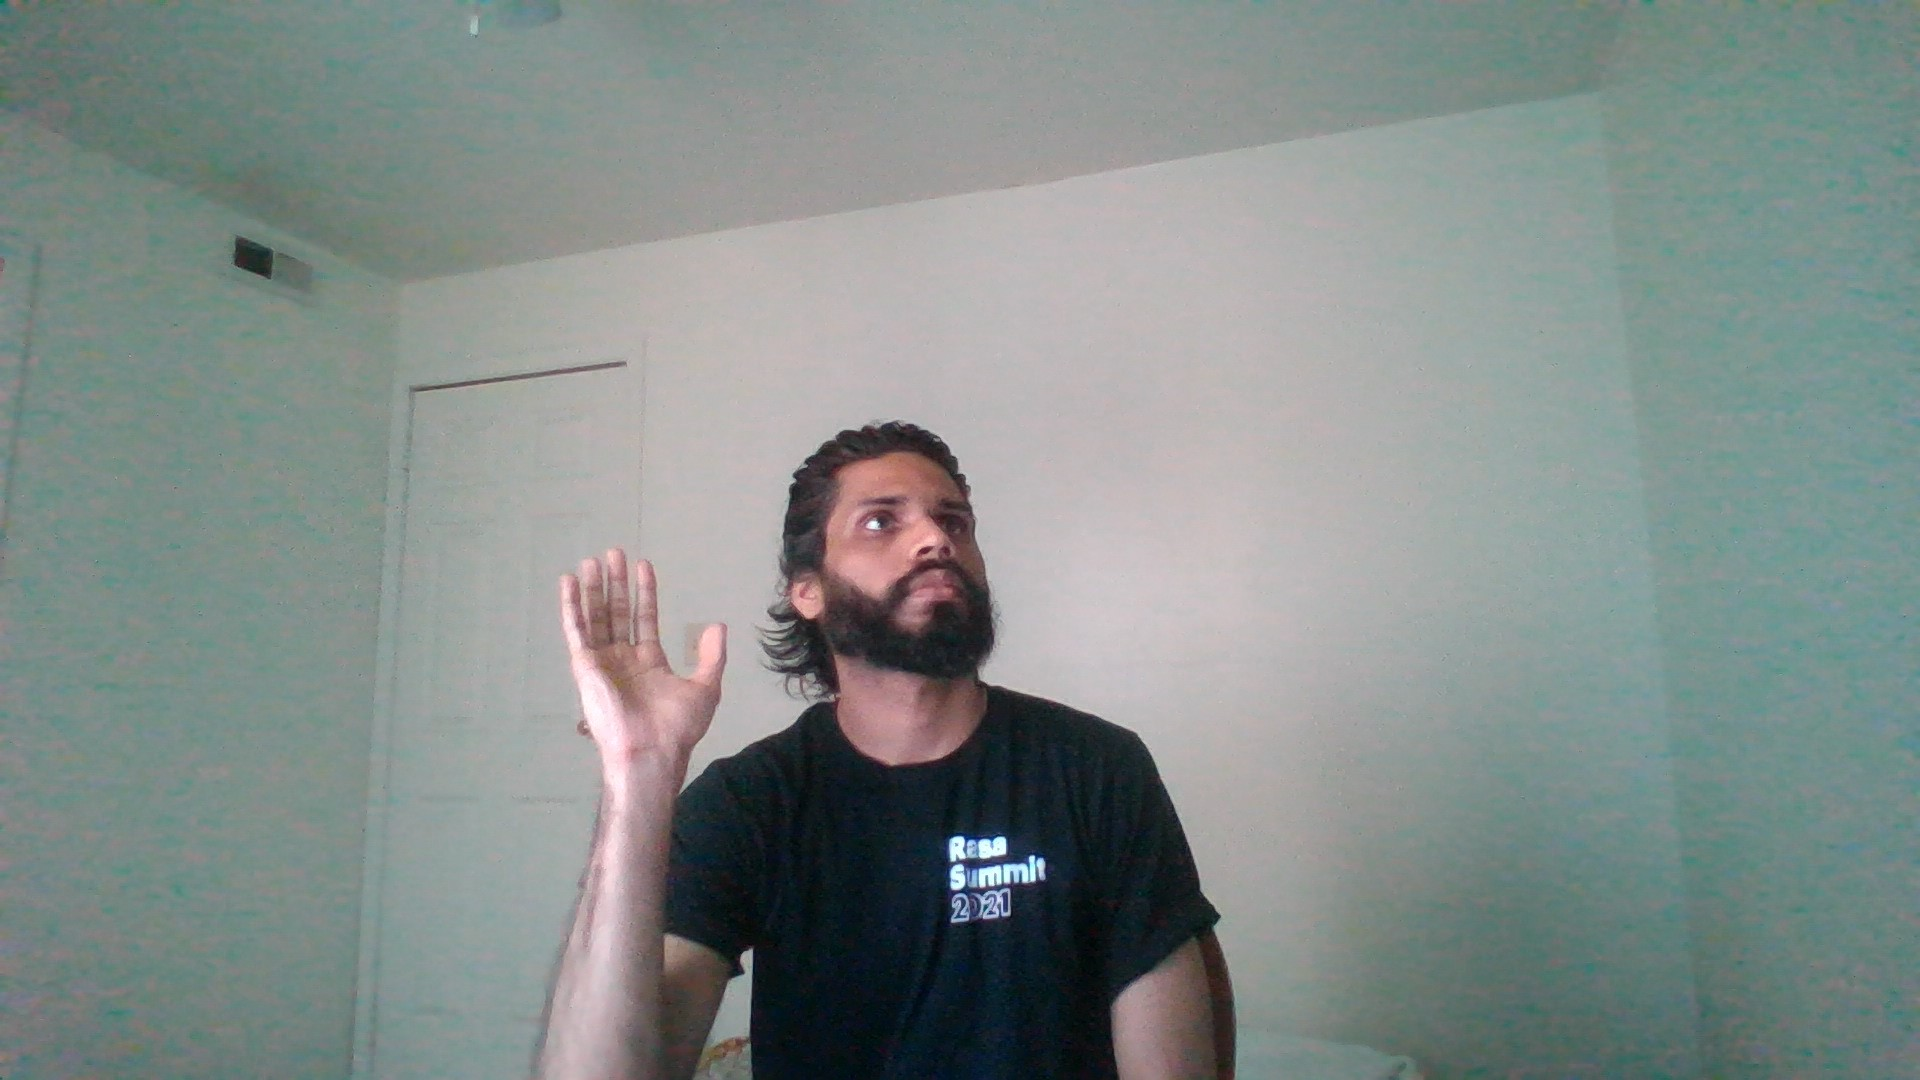Hello: (483, 534, 777, 800)
